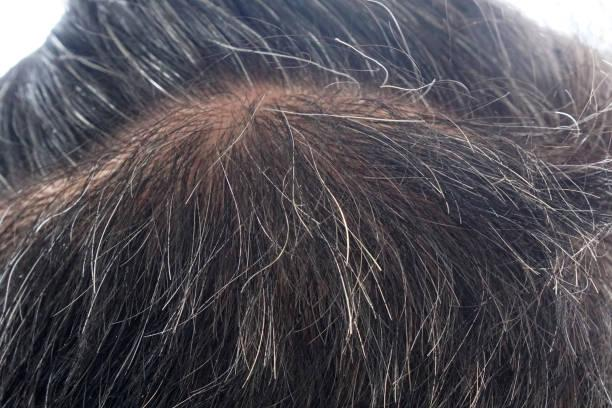dry hair: (418, 186, 507, 362), (192, 229, 264, 378), (552, 194, 596, 396), (297, 220, 335, 368), (353, 289, 383, 385)
